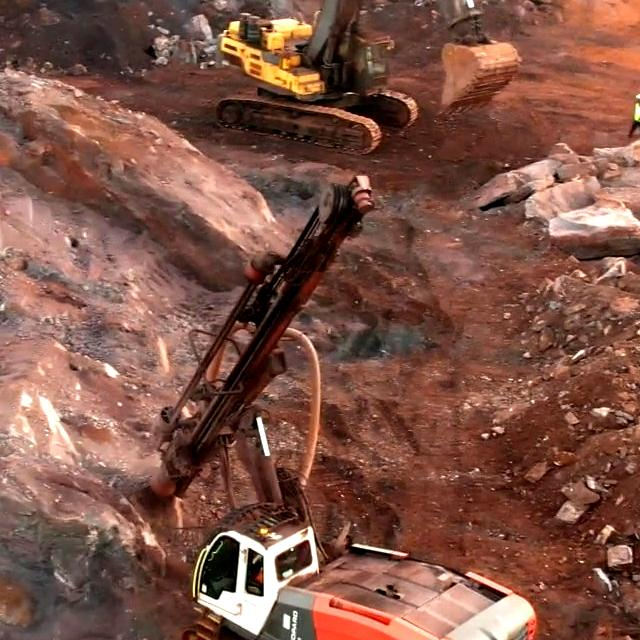Blast rig: (188, 540, 528, 640)
Excavator: (218, 7, 406, 135)
